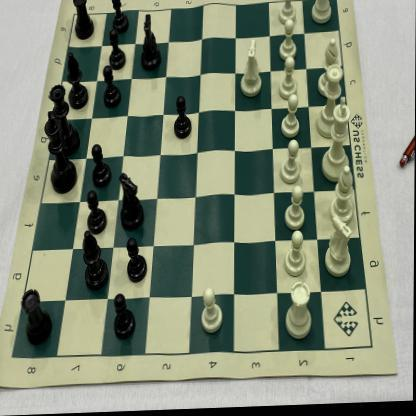black-bishop: (83, 233, 110, 290), (67, 51, 88, 110)
black-king: (43, 110, 78, 194)
black-knight: (119, 170, 147, 232), (140, 13, 162, 73)
black-pawn: (126, 236, 149, 285), (114, 294, 138, 340), (85, 188, 107, 235), (173, 95, 194, 142), (92, 142, 112, 186), (102, 66, 121, 108), (108, 30, 126, 71), (111, 0, 130, 36)
black-queen: (48, 82, 80, 156)
black-rook: (20, 284, 52, 346), (72, 0, 96, 41)
white-bishop: (330, 167, 355, 228), (317, 39, 340, 99)
white-king: (322, 97, 352, 185)
white-knight: (324, 212, 354, 282), (237, 37, 264, 104)
white-pawn: (283, 188, 309, 237), (284, 233, 310, 280), (200, 289, 224, 337), (278, 96, 304, 140), (280, 141, 304, 186), (278, 59, 301, 101), (276, 22, 299, 63), (278, 0, 297, 28)
white-queen: (317, 66, 344, 140)
white-rook: (286, 282, 314, 341), (310, 0, 333, 28)
